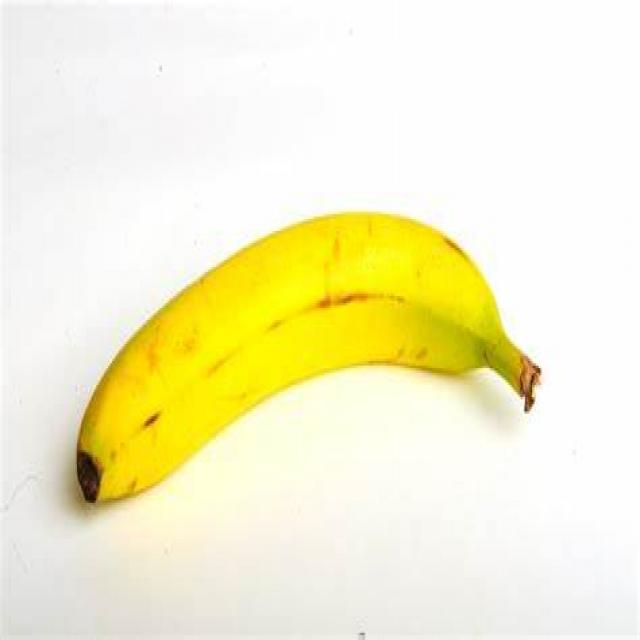Banana: (76, 212, 540, 505)
